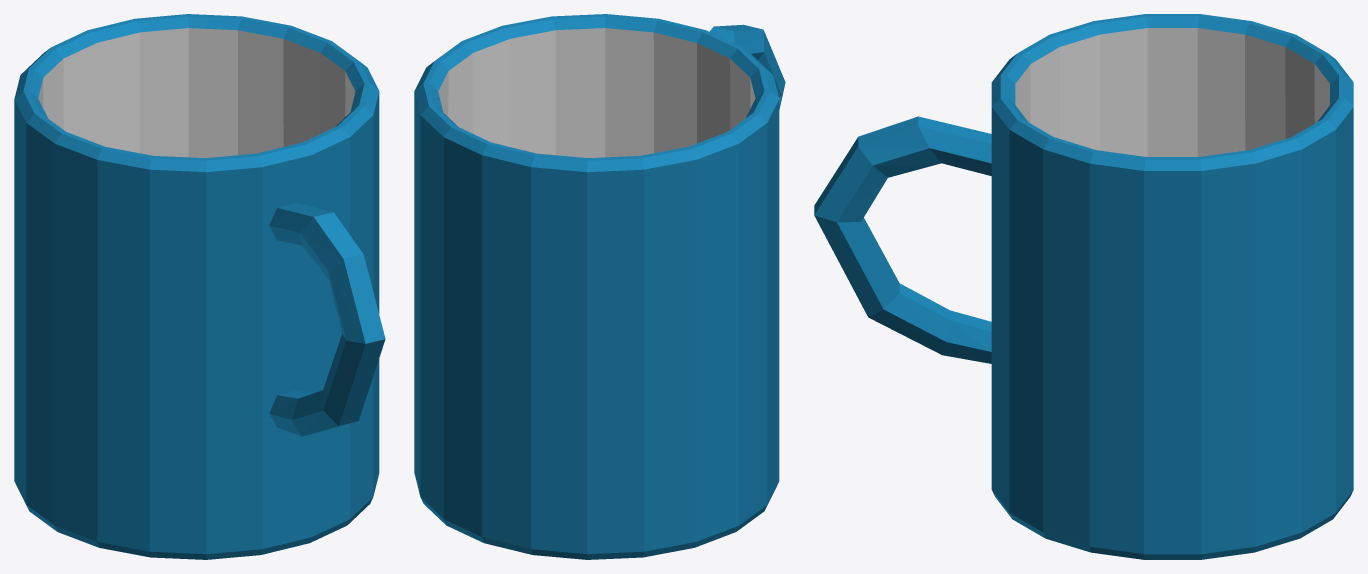
Rendered from Mug.glb.
3 renders of one model, left to right at view 1: azimuth 30°, elevation 25°; view 2: azimuth 150°, elevation 25°; view 3: azimuth 270°, elevation 25°, orthographic.
Parts seen in each view (by area): view 1: Mug; view 2: Mug; view 3: Mug.
Boxes of the visible parts, x1,y1,x2,y2 form: Mug: [14, 14, 385, 559]; Mug: [414, 14, 785, 559]; Mug: [814, 14, 1353, 559].
Bounding box in the file's own units: 51.83 × 63.37 × 77.25.
1 material, 1 textured.
